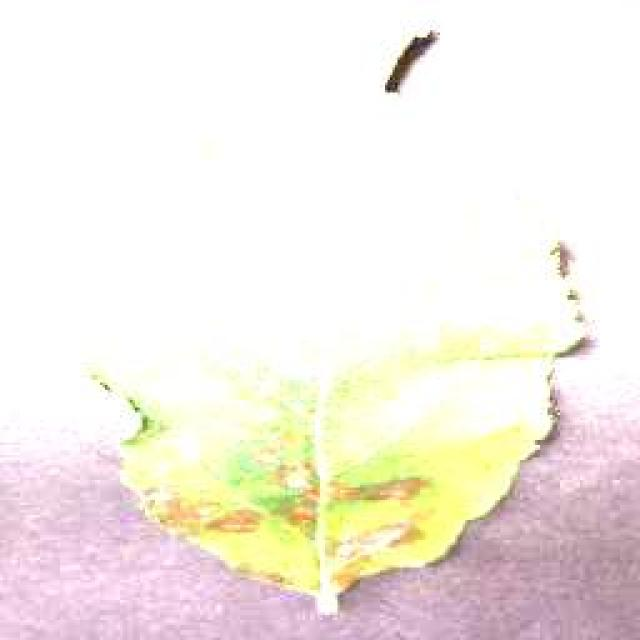apple healthy: (85, 232, 593, 618)
